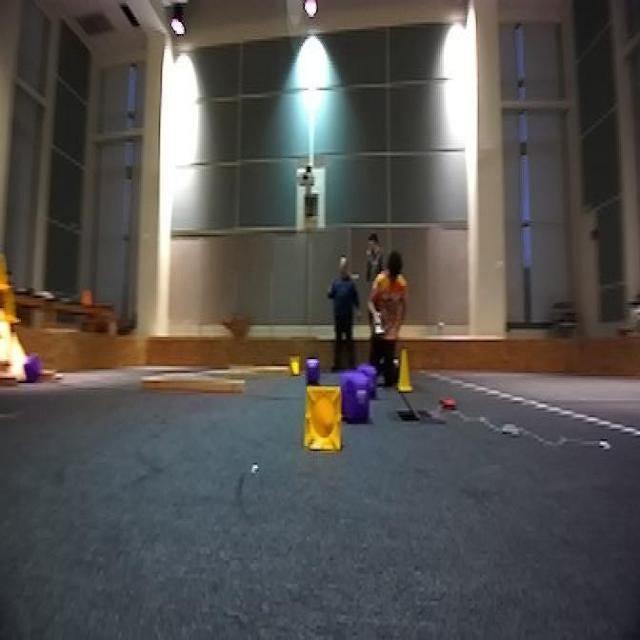frc_cone: (302, 381, 349, 460), (394, 349, 416, 391), (0, 284, 17, 332), (288, 351, 304, 376)
frc_cube: (346, 372, 372, 418), (22, 356, 42, 386), (360, 366, 379, 393), (303, 356, 322, 378)
